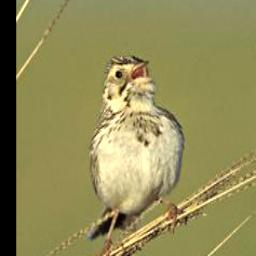Sparrow: (89, 52, 189, 256)
